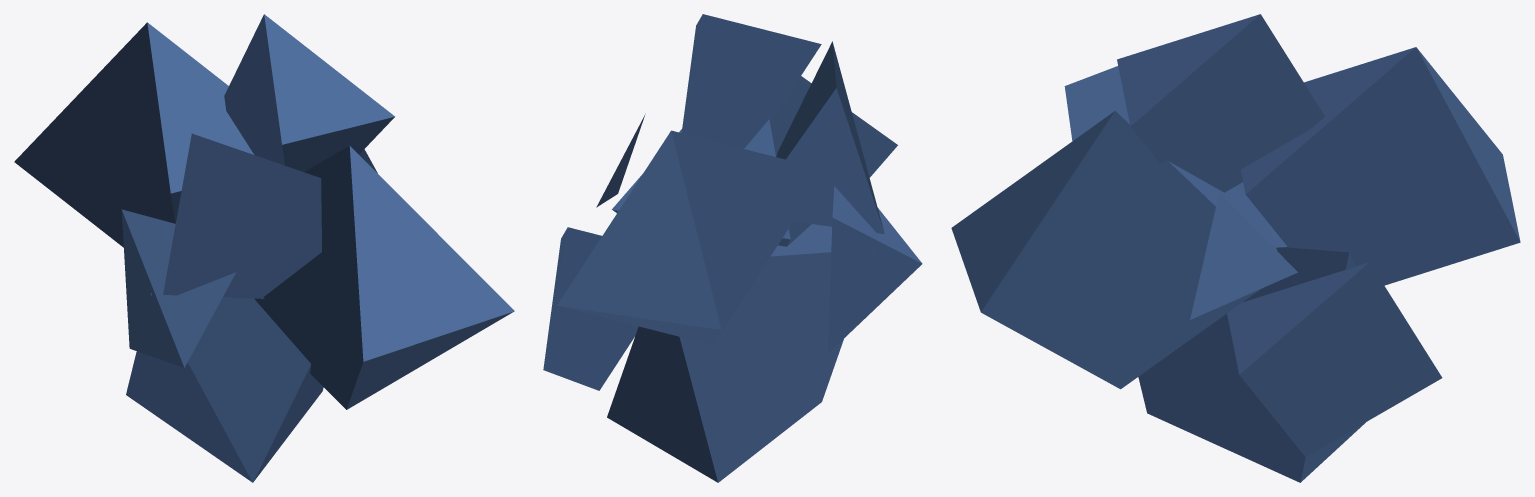
File: tree-winter-leaves-019.glb
The picture shows the model from 3 angles, left to right: view 1: azimuth 30°, elevation 25°; view 2: azimuth 150°, elevation 25°; view 3: azimuth 270°, elevation 25°; orthographic projection. The views are drawn at different scales.
Parts seen in each view (by area): view 1: Cube.051_148; view 2: Cube.051_148; view 3: Cube.051_148.
Boxes of the visible parts, box(x1,y1,x2,y2) form: Cube.051_148: box(14, 14, 514, 482); Cube.051_148: box(543, 14, 922, 482); Cube.051_148: box(951, 14, 1520, 482).
Bounding box in the file's own units: 0.7275 × 0.9493 × 1.13.
